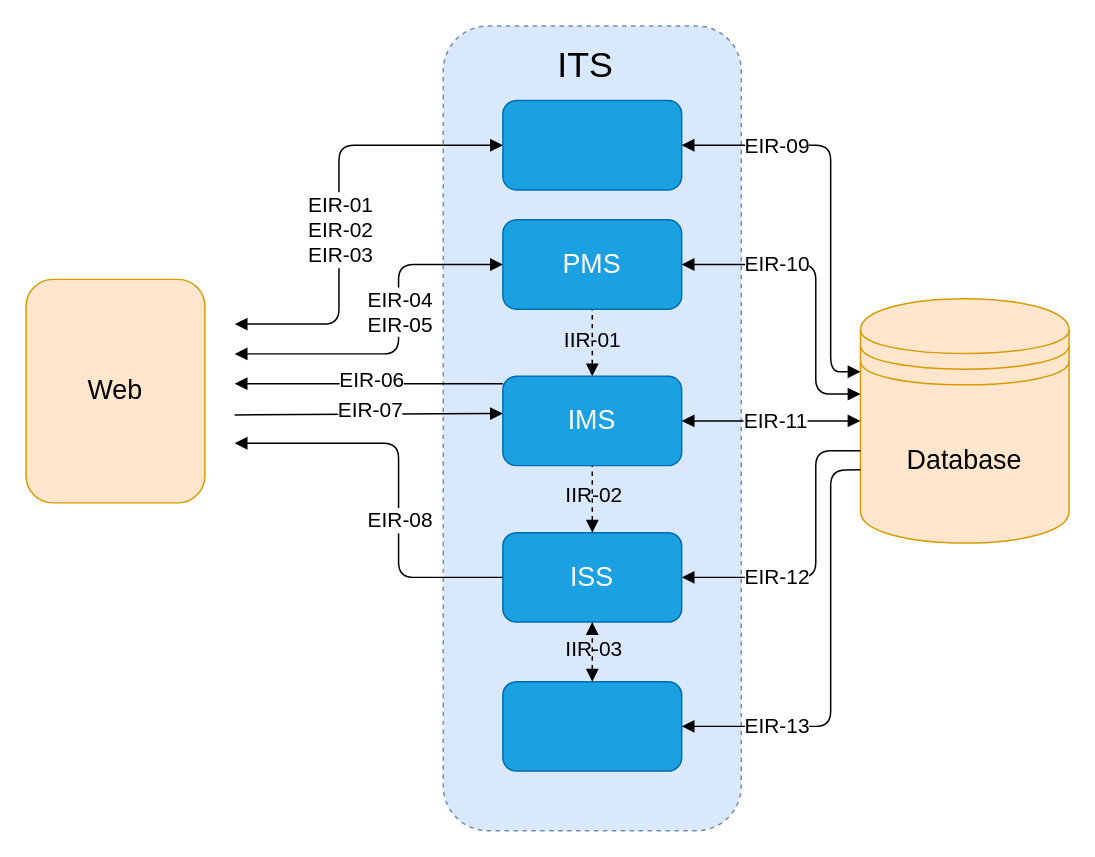
The diagram is 1095 pixels wide and 857 high, and some of its shapes have lost their labels. The shapes that lost their labels are listed below. From the top down, each one's centre as x and y in pixels, then its label:
point 591,144: UMS
point 591,725: INS
